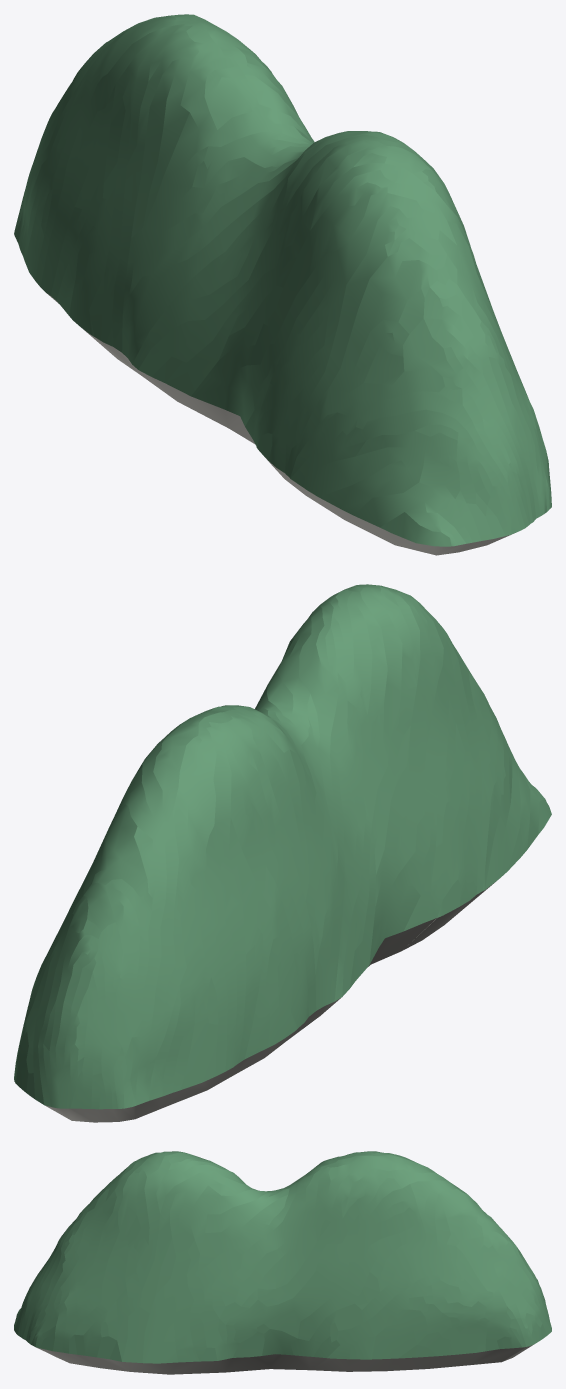
File: island_asian_O.fbx
3 renders of one model, top to bottom at view 1: azimuth 30°, elevation 25°; view 2: azimuth 150°, elevation 25°; view 3: azimuth 270°, elevation 25°, orthographic. The views are drawn at different scales.
Parts seen in each view (by area): view 1: island_asian_O; view 2: island_asian_O; view 3: island_asian_O.
Boxes of the visible parts, x1=… form: island_asian_O: x1=14, y1=14, x2=551, y2=555; island_asian_O: x1=14, y1=584, x2=551, y2=1122; island_asian_O: x1=14, y1=1151, x2=551, y2=1374.
Bounding box in the file's own units: 2407 × 3343 × 8344.
